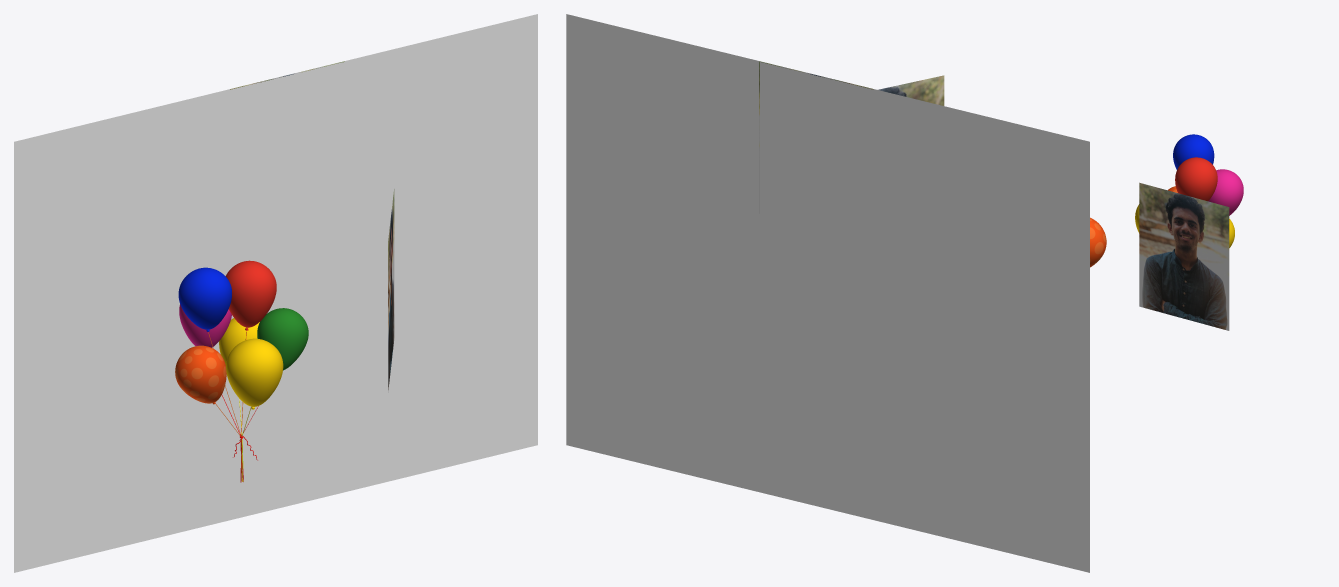
The picture shows the model from 3 angles, left to right: view 1: azimuth 30°, elevation 25°; view 2: azimuth 150°, elevation 25°; view 3: azimuth 270°, elevation 25°; orthographic projection. The views are drawn at different scales.
Parts seen in each view (by area): view 1: mesh_id1, node_id36, mesh_id52; view 2: mesh_id1, mesh_id52; view 3: mesh_id52, node_id36.
Part boxes in pixels (left/top/right/bottom): mesh_id1: left=14, top=14, right=537, bottom=572; node_id36: left=175, top=260, right=308, bottom=482; mesh_id52: left=388, top=189, right=394, bottom=392; mesh_id1: left=566, top=14, right=1089, bottom=572; mesh_id52: left=878, top=75, right=944, bottom=105; mesh_id52: left=1139, top=182, right=1229, bottom=330; node_id36: left=1135, top=134, right=1243, bottom=247.
Bounding box in the file's own units: 1.35 × 1.06 × 0.5206.
3 materials, 3 textured.
